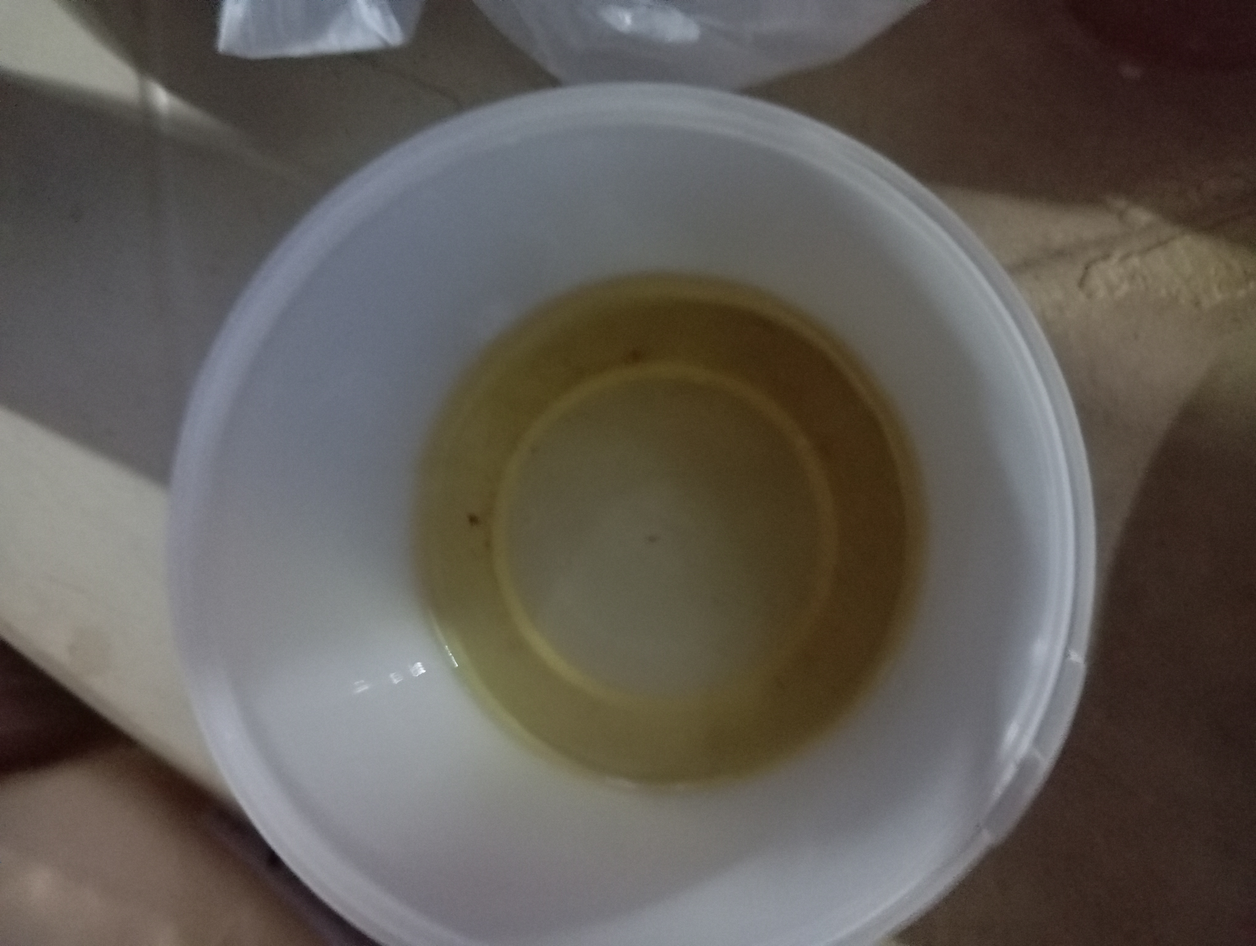reusable: (416, 277, 917, 785)
